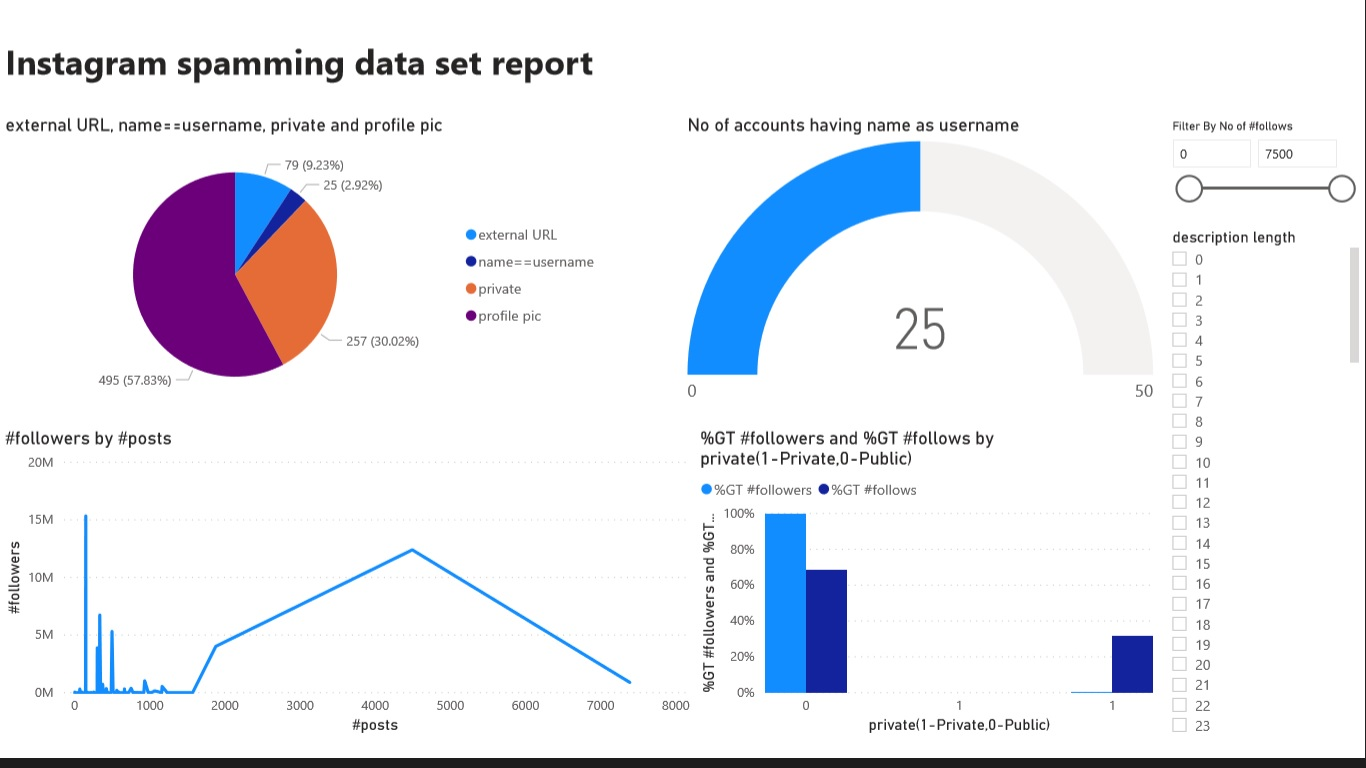

Layout of this report page (visuals, bound fields, positions):
{"tool":"powerbi","page":{"name":"Page 1","canvas":[1280,720],"ordinal":0},"visuals":[{"type":"clusteredColumnChart","fields":{"Y":["Sum(p (2).#followers)","Sum(p (2).#follows)"],"Category":["p (2).private"]},"box":[651.8,428.3,435.1,292.3],"z":0},{"type":"lineChart","fields":{"Category":["p (2).#posts"],"Y":["Sum(p (2).#followers)"]},"box":[0,428.3,651.8,292.3],"z":1000},{"type":"slicer","fields":{"Values":["p (2).#follows"]},"box":[1087.1,134.8,192.9,102.4],"z":2000},{"type":"gauge","fields":{"Y":["Sum(p (2).name==username)"]},"box":[640,134.8,447.1,281.6],"z":3000},{"type":"pieChart","fields":{"Y":["Sum(p (2).external URL)","Sum(p (2).name==username)","Sum(p (2).private)","Sum(p (2).profile pic)"]},"box":[0,134.8,571.7,281.6],"z":4000},{"type":"slicer","fields":{"Values":["p (2).description length"]},"box":[1087.1,237.2,192.9,483],"z":5000},{"type":"textbox","box":[0,58,571.7,76.8],"z":5001}]}

Visuals, with their boxes in screenshot pixels (x1, y1, x2, y2), scaled from the page's 1280x720 canvas onto the 1366x768 screenshot:
clusteredColumnChart - Sum(p (2).#followers) x Sum(p (2).#follows): (x1=696, y1=457, x2=1160, y2=767)
lineChart - p (2).#posts x Sum(p (2).#followers): (x1=0, y1=457, x2=696, y2=767)
slicer - p (2).#follows: (x1=1160, y1=144, x2=1365, y2=253)
gauge - Sum(p (2).name==username): (x1=683, y1=144, x2=1160, y2=444)
pieChart - Sum(p (2).external URL) x Sum(p (2).name==username): (x1=0, y1=144, x2=610, y2=444)
slicer - p (2).description length: (x1=1160, y1=253, x2=1365, y2=767)
textbox: (x1=0, y1=62, x2=610, y2=144)
